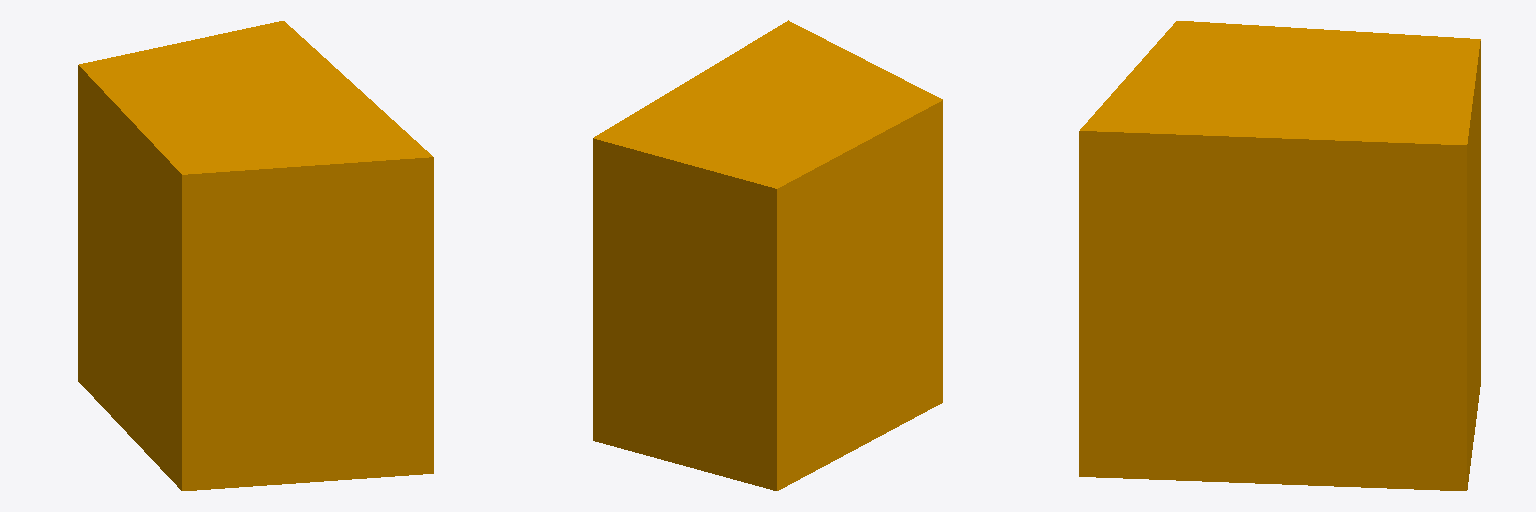
The robot description file, URDF, robot "object":
<?xml version="1.0"?>
<robot name="object">
  <link name="object">
    <visual>
      <origin xyz="0 0 0"/>
      <geometry>
        <mesh filename="meshes/generated/col_001.obj" scale="0.03 0.03 0.03"/>
      </geometry>
    </visual>
    <collision>
      <origin xyz="0 0 0"/>
      <geometry>
        <mesh filename="meshes/generated/col_001.obj" scale="0.03 0.03 0.03"/>
      </geometry>
    </collision>
    <inertial>
      <density value="1000.0"/>
    </inertial>
  </link>
</robot>

--- Facts derived from the render (not from the file) ---
The picture shows the robot from 3 angles, left to right: view 1: azimuth 30°, elevation 25°; view 2: azimuth 150°, elevation 25°; view 3: azimuth 270°, elevation 25°; orthographic projection.
Robot: object — 1 links, 0 joints (none); root link object; default pose: every joint at zero.
Links seen in each view (by area): view 1: object; view 2: object; view 3: object.
Boxes of the visible links, x1,y1,x2,y2 form: object: (78,21,433,490); object: (593,20,942,490); object: (1079,21,1480,490).
Size in the robot's own frame: 0.0465 by 0.0631 by 0.06 metres.
Meshes: 1 distinct files referenced, 1 mesh visuals loaded (1 OBJ).
